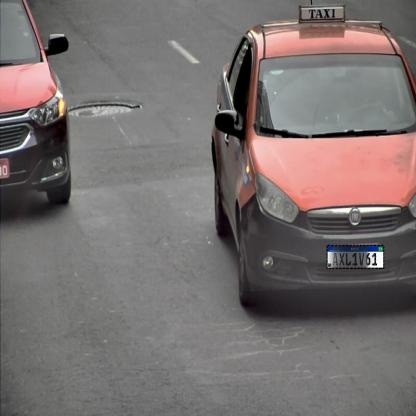PlacaM: (327, 245, 384, 269)
